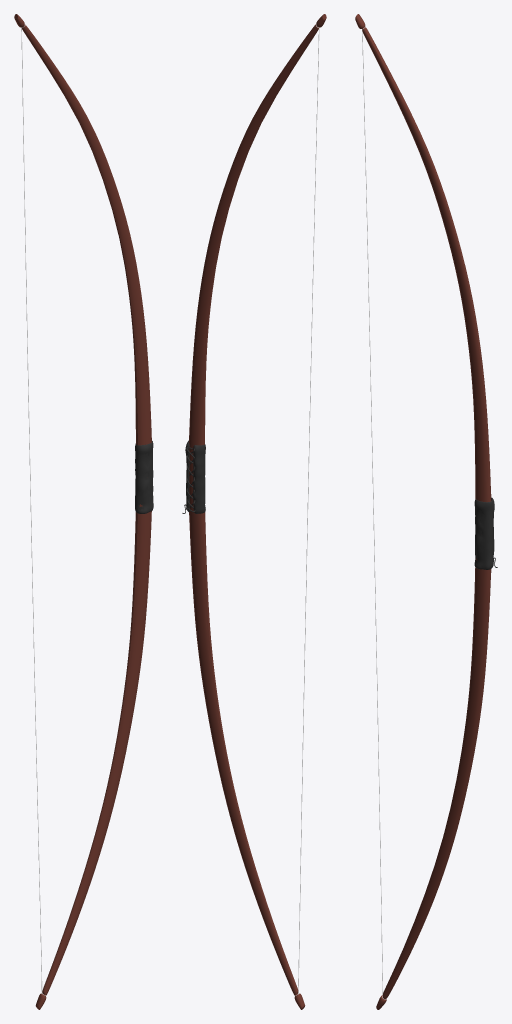
Rendered from AbrilGoicoechea_ArcoLOW.fbx.
3 views of the same model, side by side, from view 1: azimuth 30°, elevation 25°; view 2: azimuth 150°, elevation 25°; view 3: azimuth 330°, elevation 25° (orthographic).
Visible parts, largest first — view 1: Madera, Madera.001, Tela, CurvaCuerda; view 2: Madera, Madera.001, Tela, CurvaCuerda; view 3: Madera, Tela, CurvaCuerda, Madera.001.
Boxes of the visible parts, x1=… form: Madera: x1=14, y1=14, x2=151, y2=1009; Madera.001: x1=14, y1=14, x2=145, y2=1009; Tela: x1=135, y1=441, x2=153, y2=513; CurvaCuerda: x1=21, y1=24, x2=45, y2=995; Madera: x1=188, y1=14, x2=326, y2=1009; Madera.001: x1=196, y1=15, x2=326, y2=1009; Tela: x1=182, y1=440, x2=205, y2=513; CurvaCuerda: x1=294, y1=24, x2=319, y2=996; Madera: x1=355, y1=14, x2=491, y2=1009; Tela: x1=474, y1=497, x2=497, y2=569; CurvaCuerda: x1=362, y1=27, x2=386, y2=999; Madera.001: x1=370, y1=47, x2=479, y2=968.
Bounding box in the file's own units: 26.04 × 180 × 2.78.
